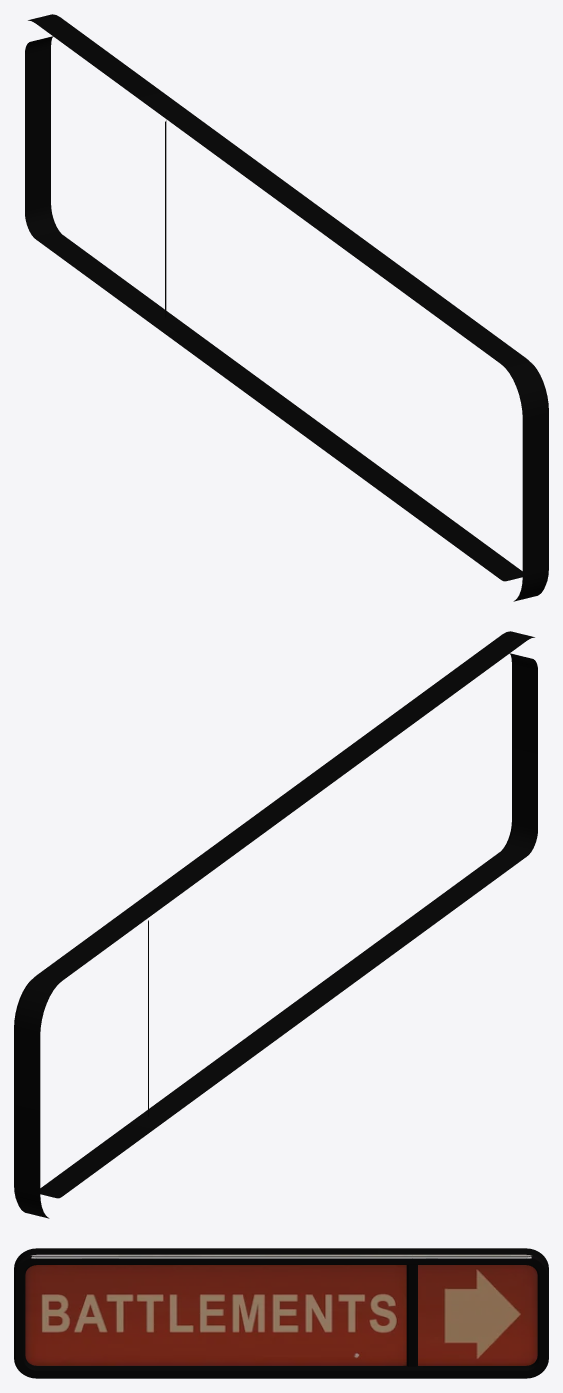
The picture shows the model from 3 angles, top to bottom: view 1: azimuth 30°, elevation 25°; view 2: azimuth 150°, elevation 25°; view 3: azimuth 270°, elevation 25°; orthographic projection. The views are drawn at different scales.
Visible parts, largest first — view 1: body0_model0_lod0_mesh0; view 2: body0_model0_lod0_mesh0; view 3: body0_model0_lod0_mesh0.
Part boxes in pixels (x1=…): body0_model0_lod0_mesh0: x1=25, y1=14, x2=548, y2=601; body0_model0_lod0_mesh0: x1=14, y1=631, x2=537, y2=1218; body0_model0_lod0_mesh0: x1=14, y1=1248, x2=548, y2=1378.
Bounding box in the file's own units: 1.5 × 12 × 47.
1 material, 1 textured.
